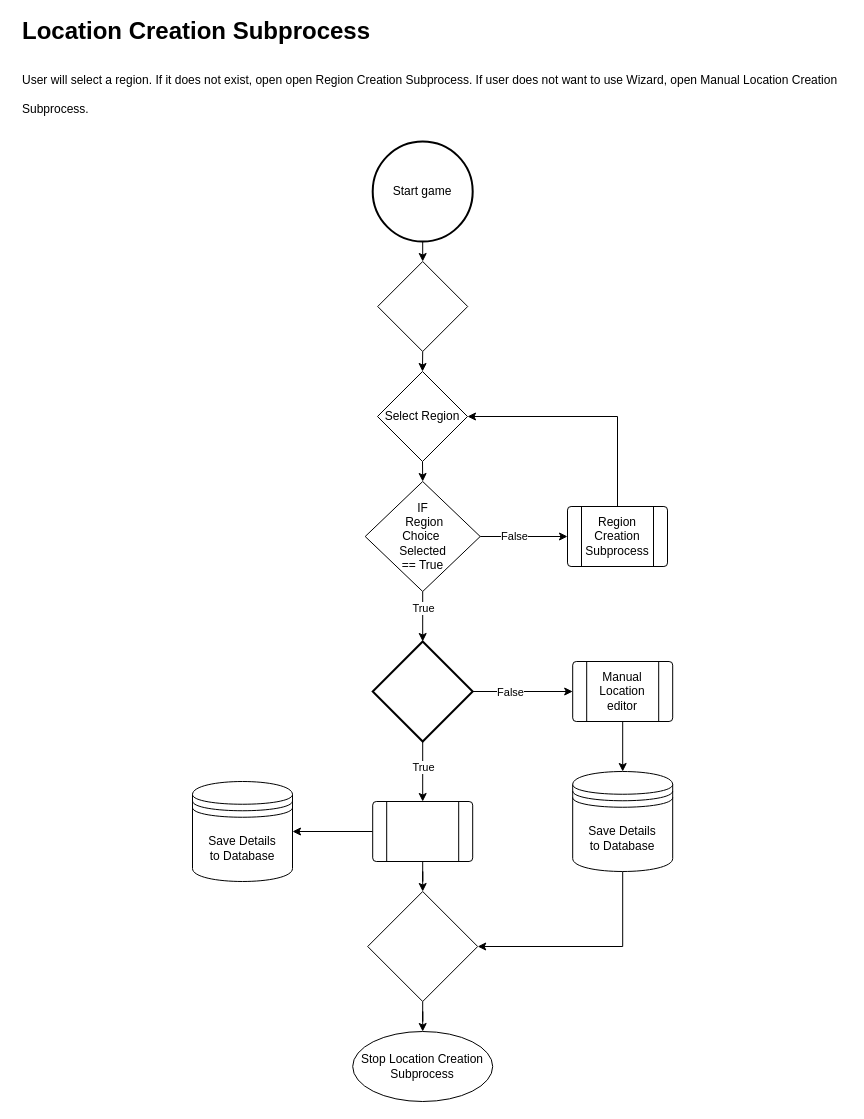
The diagram is 864 pixels wide and 1119 high, and some of its shapes have lost their labels. Each missing label, with the box of its shape:
IF Use Wizard's?: (371, 640, 473, 742)
Save Changes and Exit: (367, 890, 478, 1002)
Select Campaign: (377, 260, 468, 352)
Wizard Location editor: (372, 800, 473, 862)
